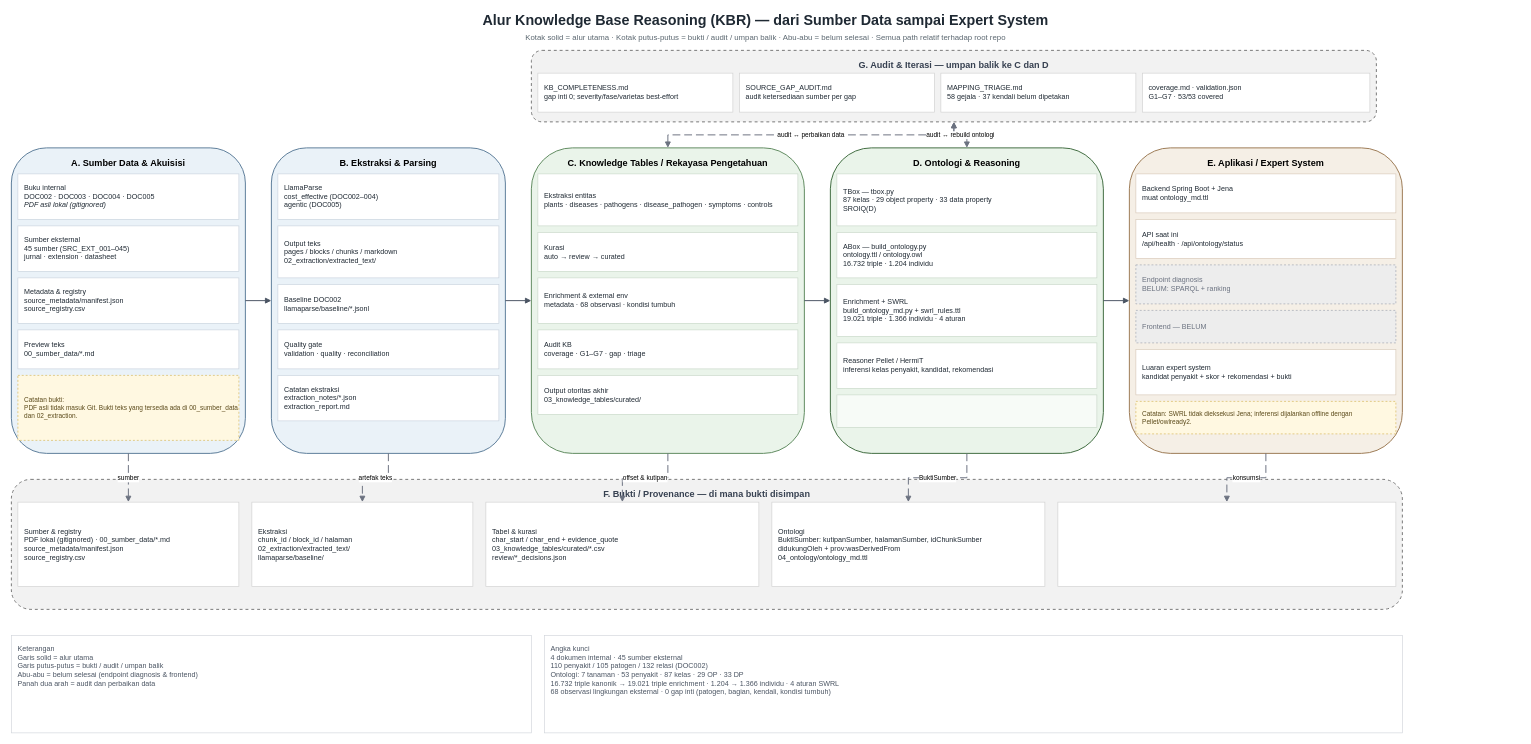
The diagram is 1531 pixels wide and 744 high, and some of its shapes have lost their labels. Here are the shapes that lost their labels. From the top down, the centre of each, then its label:
the point at 966,410: Pellet utama · HermiT fallback reasoner_utils.py
the point at 1226,544: Konsumsi API 06_backend membaca ontology_md.ttl belum mengembalikan BuktiSumber
